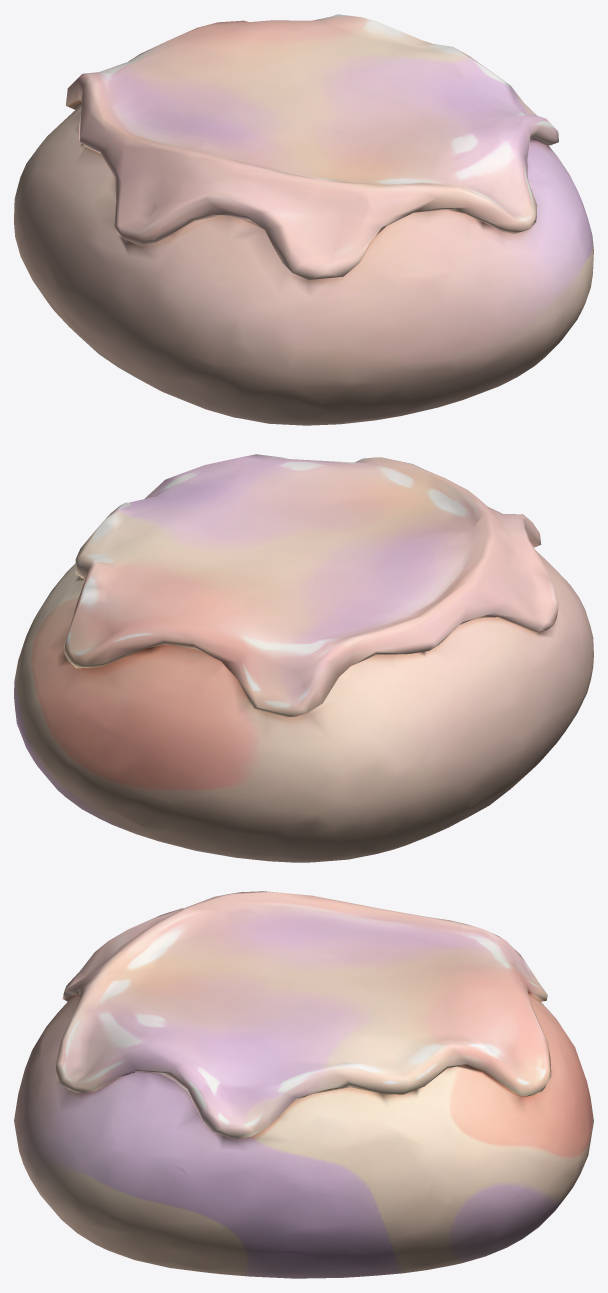
The model's file is Kit_M_JellyRock_raw.glb.
3 renders of one model, top to bottom at view 1: azimuth 30°, elevation 25°; view 2: azimuth 150°, elevation 25°; view 3: azimuth 270°, elevation 25°, orthographic. The views are drawn at different scales.
Parts seen in each view (by area): view 1: tripo_node_8beccd8f-ed7f-4dcb-8864-0fa0476c597a; view 2: tripo_node_8beccd8f-ed7f-4dcb-8864-0fa0476c597a; view 3: tripo_node_8beccd8f-ed7f-4dcb-8864-0fa0476c597a.
Part boxes in pixels (x1,y1,x2,y2): tripo_node_8beccd8f-ed7f-4dcb-8864-0fa0476c597a: (14,14,593,425); tripo_node_8beccd8f-ed7f-4dcb-8864-0fa0476c597a: (14,454,593,862); tripo_node_8beccd8f-ed7f-4dcb-8864-0fa0476c597a: (14,891,593,1278).
Size of the model in its own units: 0.9025 by 0.4657 by 1.
1 material, 1 textured.
